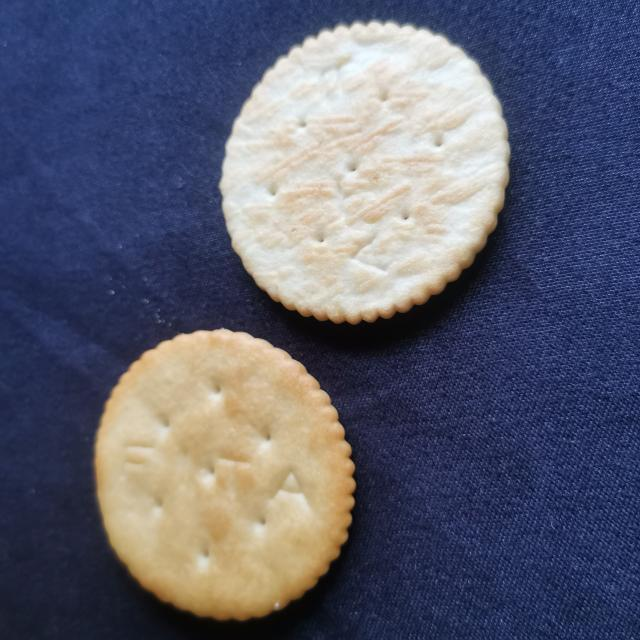Intact: (213, 11, 522, 336), (83, 322, 371, 625)
